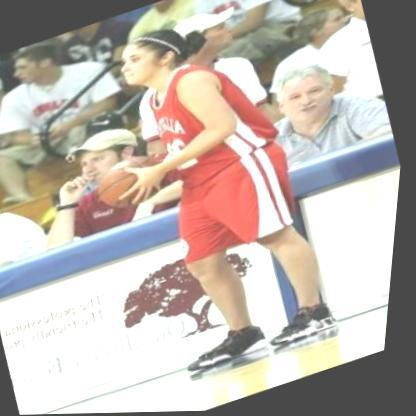basketball: (88, 147, 178, 223)
